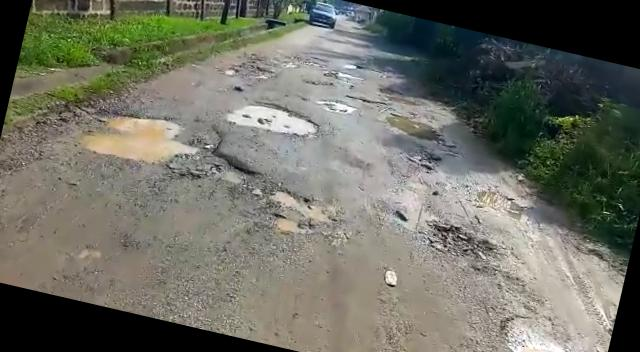pothole: (78, 99, 224, 182), (250, 180, 340, 242), (224, 93, 324, 145), (420, 217, 511, 271), (466, 184, 532, 222), (343, 92, 392, 110)
